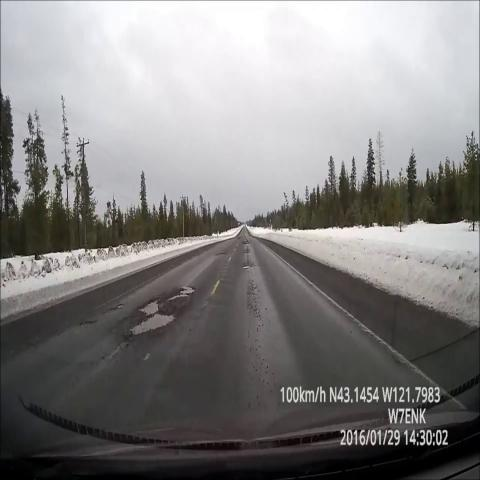pothole: (129, 311, 175, 346), (70, 305, 103, 340), (133, 290, 165, 318), (168, 283, 199, 306), (110, 291, 136, 317), (236, 238, 256, 258), (214, 242, 230, 261), (237, 258, 253, 274)
